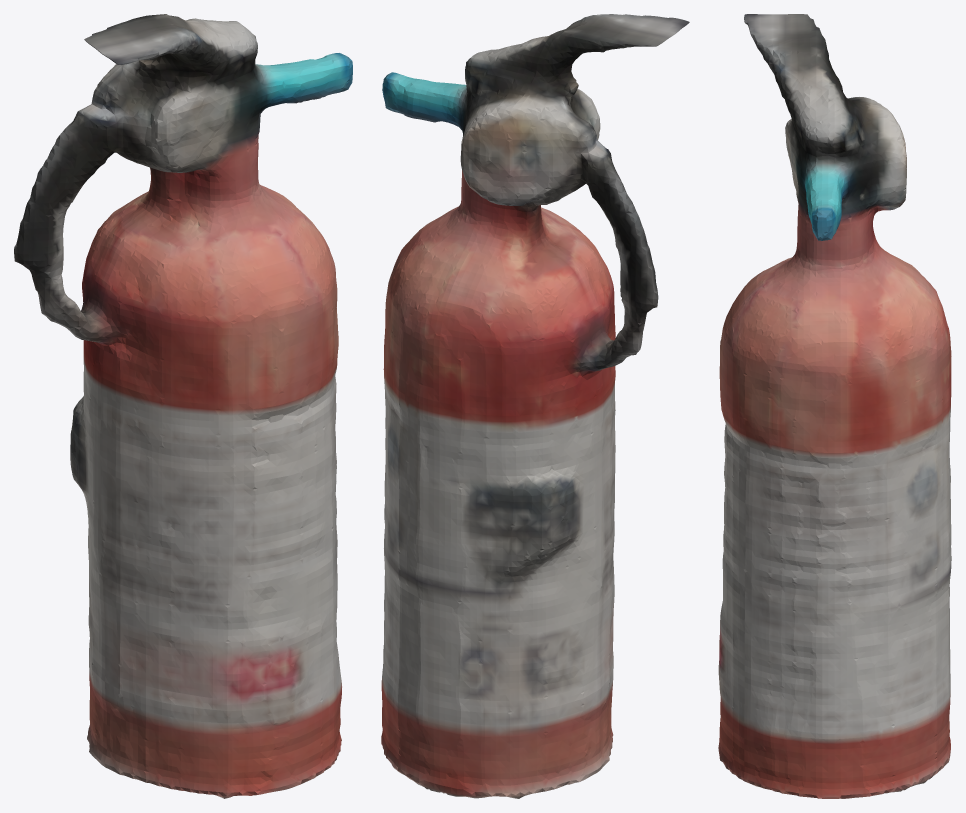
File: full.glb
3 views of the same model, side by side, from view 1: azimuth 30°, elevation 25°; view 2: azimuth 150°, elevation 25°; view 3: azimuth 270°, elevation 25° (orthographic). The views are drawn at different scales.
Visible parts, largest first — view 1: world; view 2: world; view 3: world.
Boxes of the visible parts, x1,y1,x2,y2 form: world: [14, 14, 352, 798]; world: [381, 14, 689, 798]; world: [718, 14, 951, 798].
Bounding box in the file's own units: 0.8534 × 2 × 0.6198.
